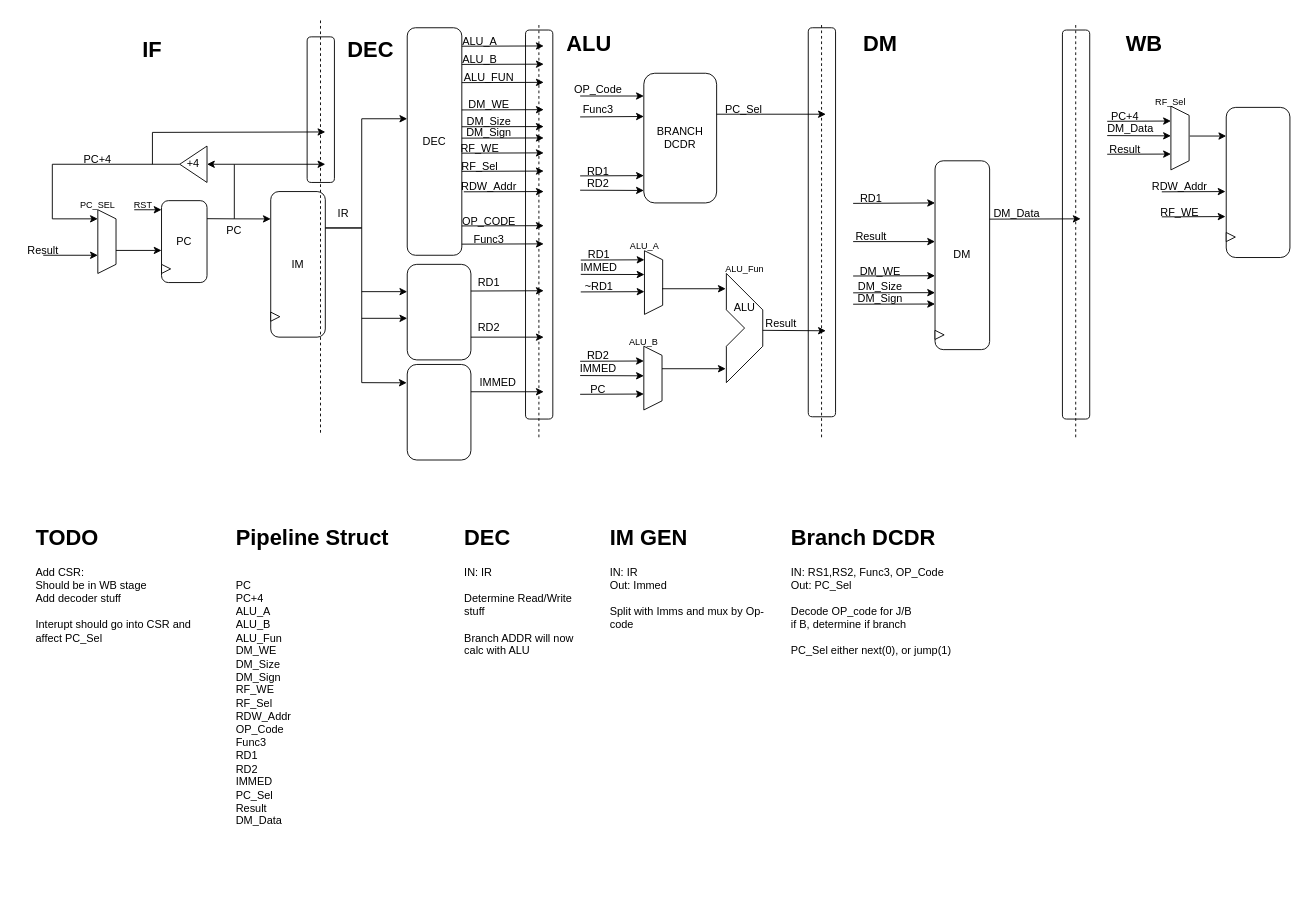
Some shapes in this 1306 by 905 pixel diagram are drawn without their labels. Each missing label, with the centre of its shape:
IM GEN: (x=438, y=412)
RF Data Out: (x=438, y=311)
RF WB: (x=1257, y=182)
